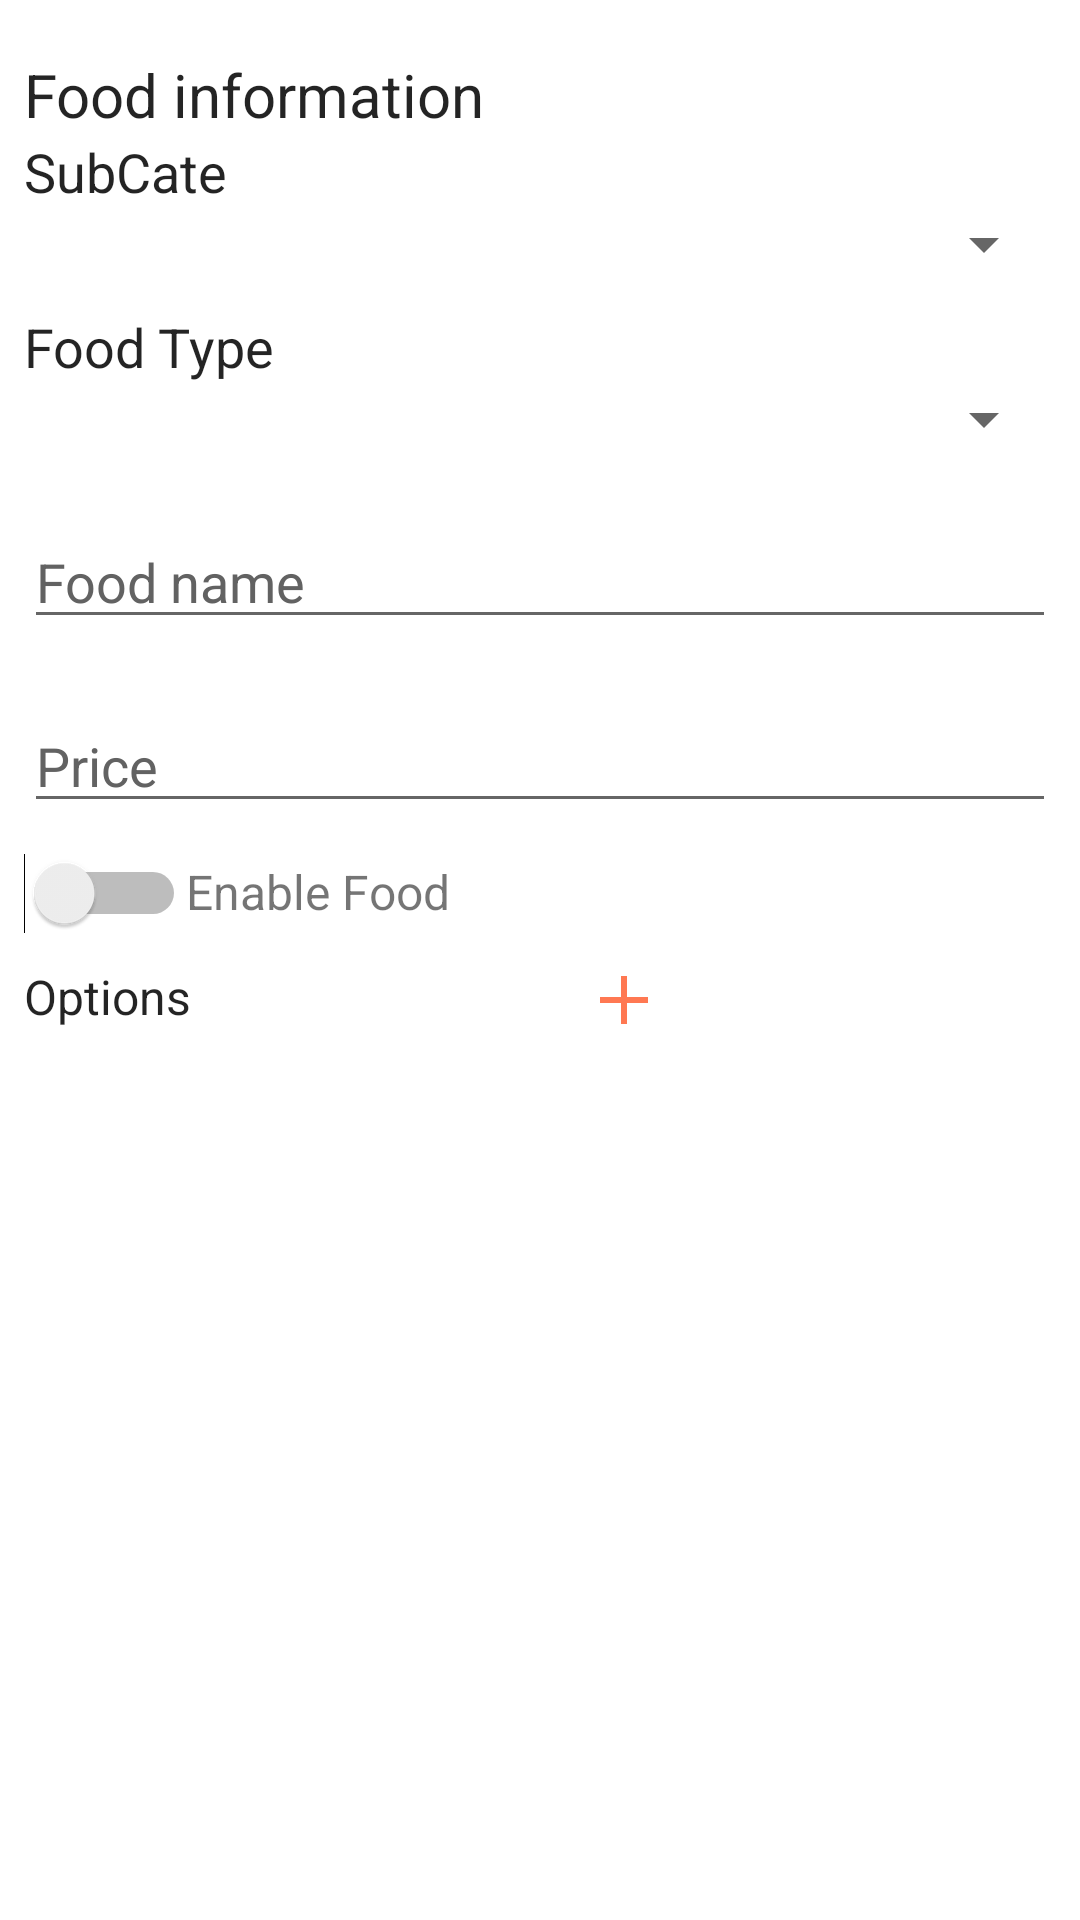

Named icons in this screenshot (1080×1920) and their bounding boxes, detection(x1, y1, x2, y2):
add: detection(600, 976, 648, 1024)
